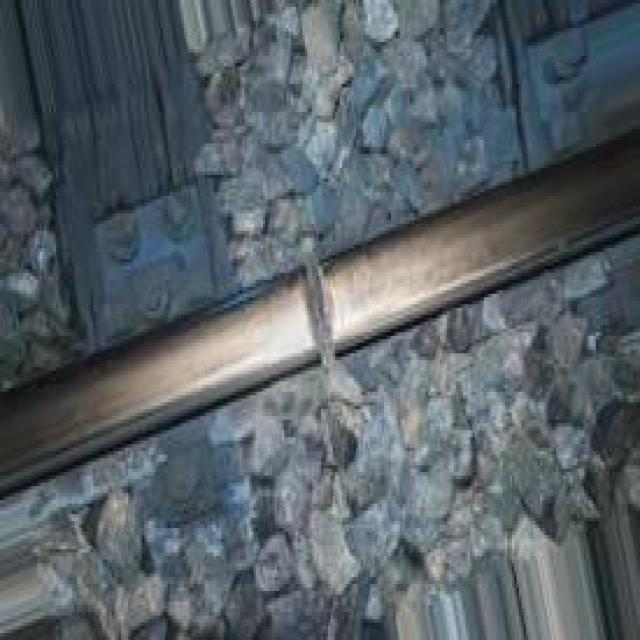crack: (276, 245, 356, 378)
